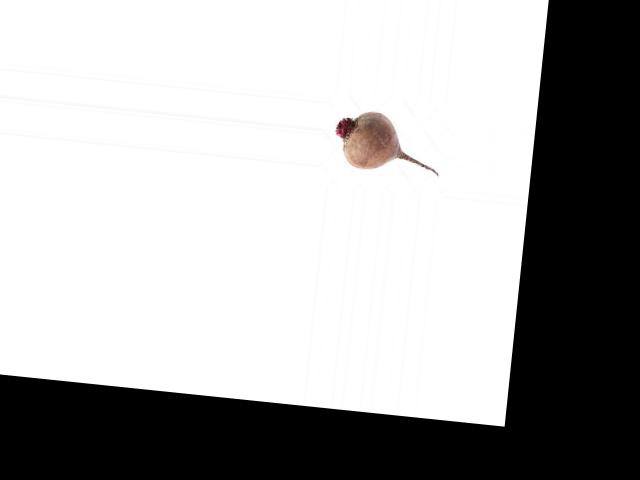beet: (332, 106, 444, 176)
